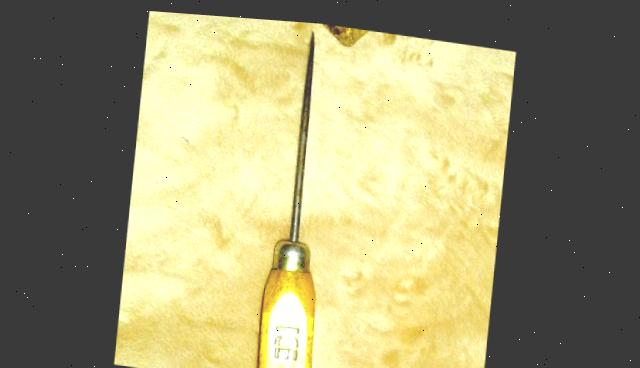ice pick: (255, 19, 349, 368)
